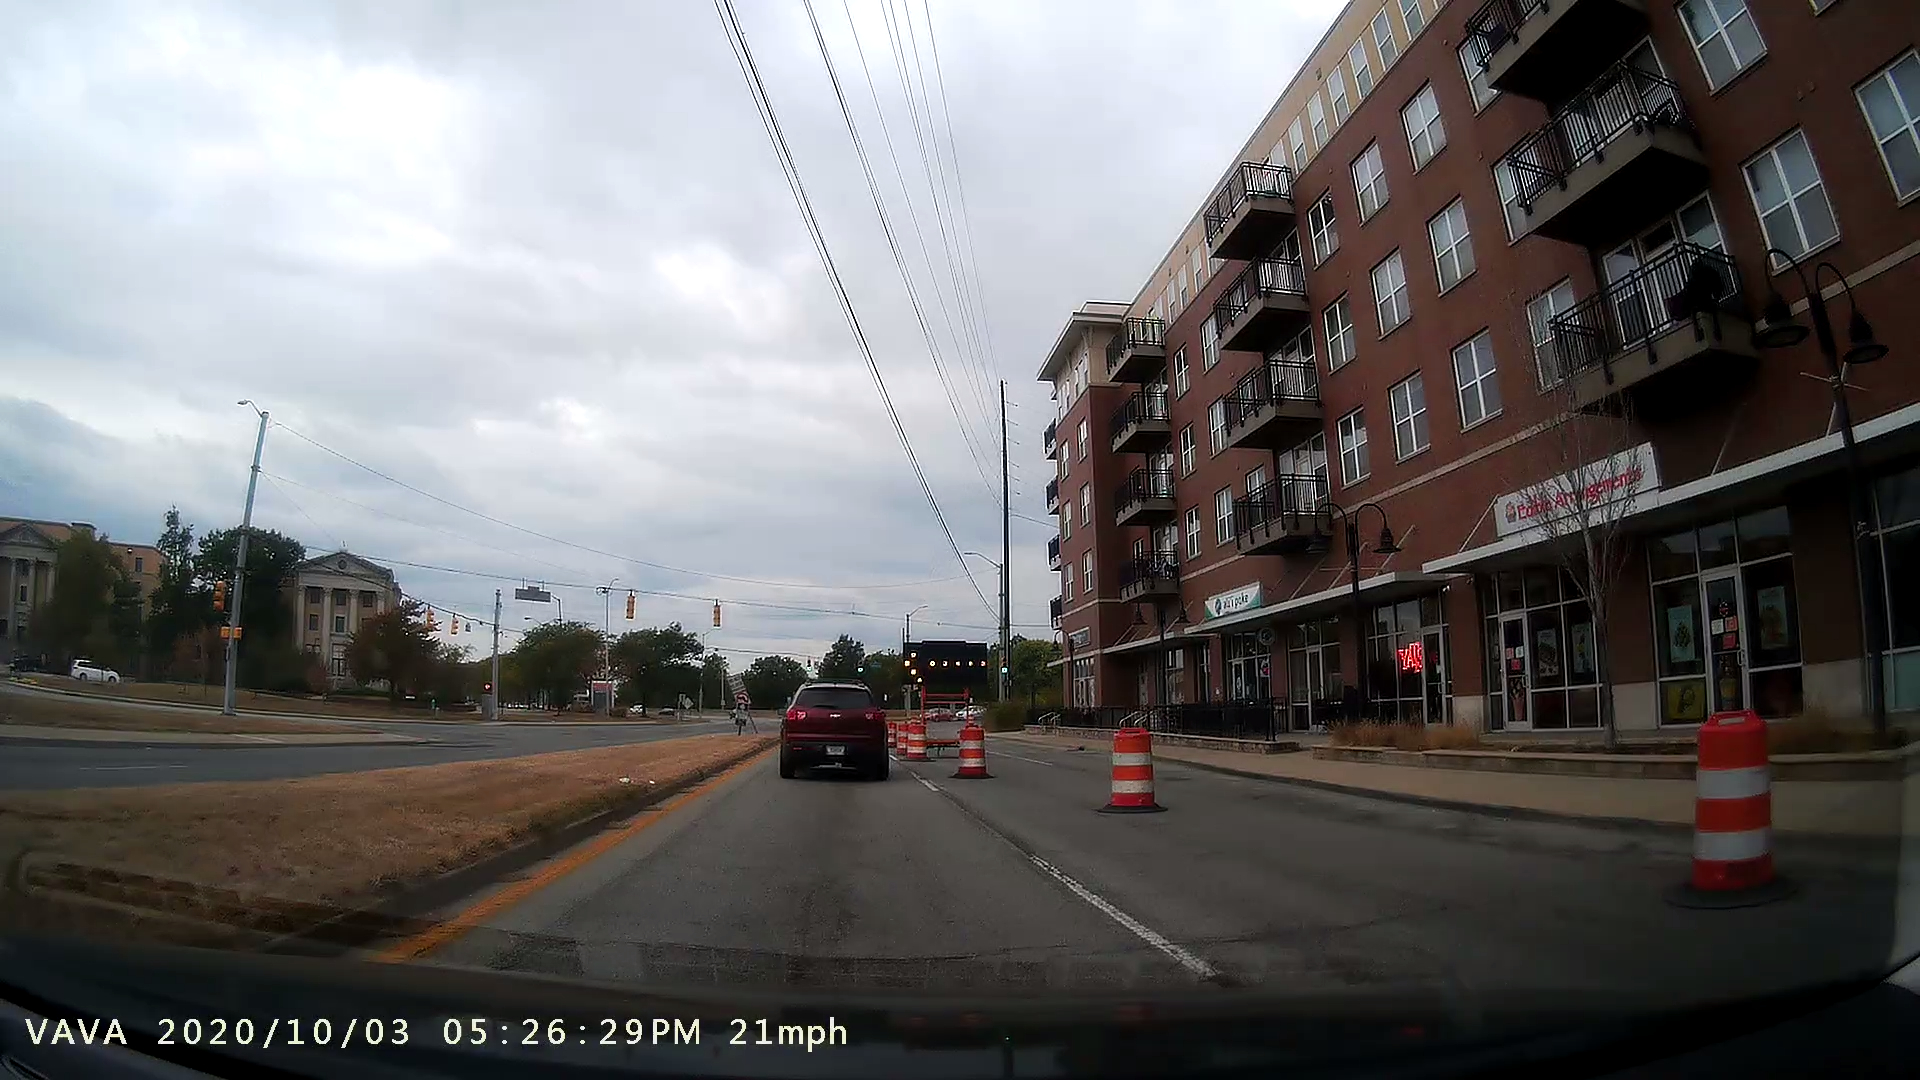const_barrel: (1648, 698, 1826, 928), (1092, 717, 1171, 822), (949, 713, 1001, 785)
